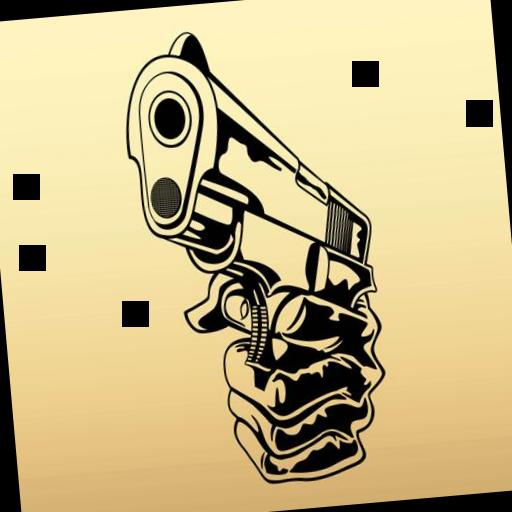Handgun: (113, 0, 395, 492)
